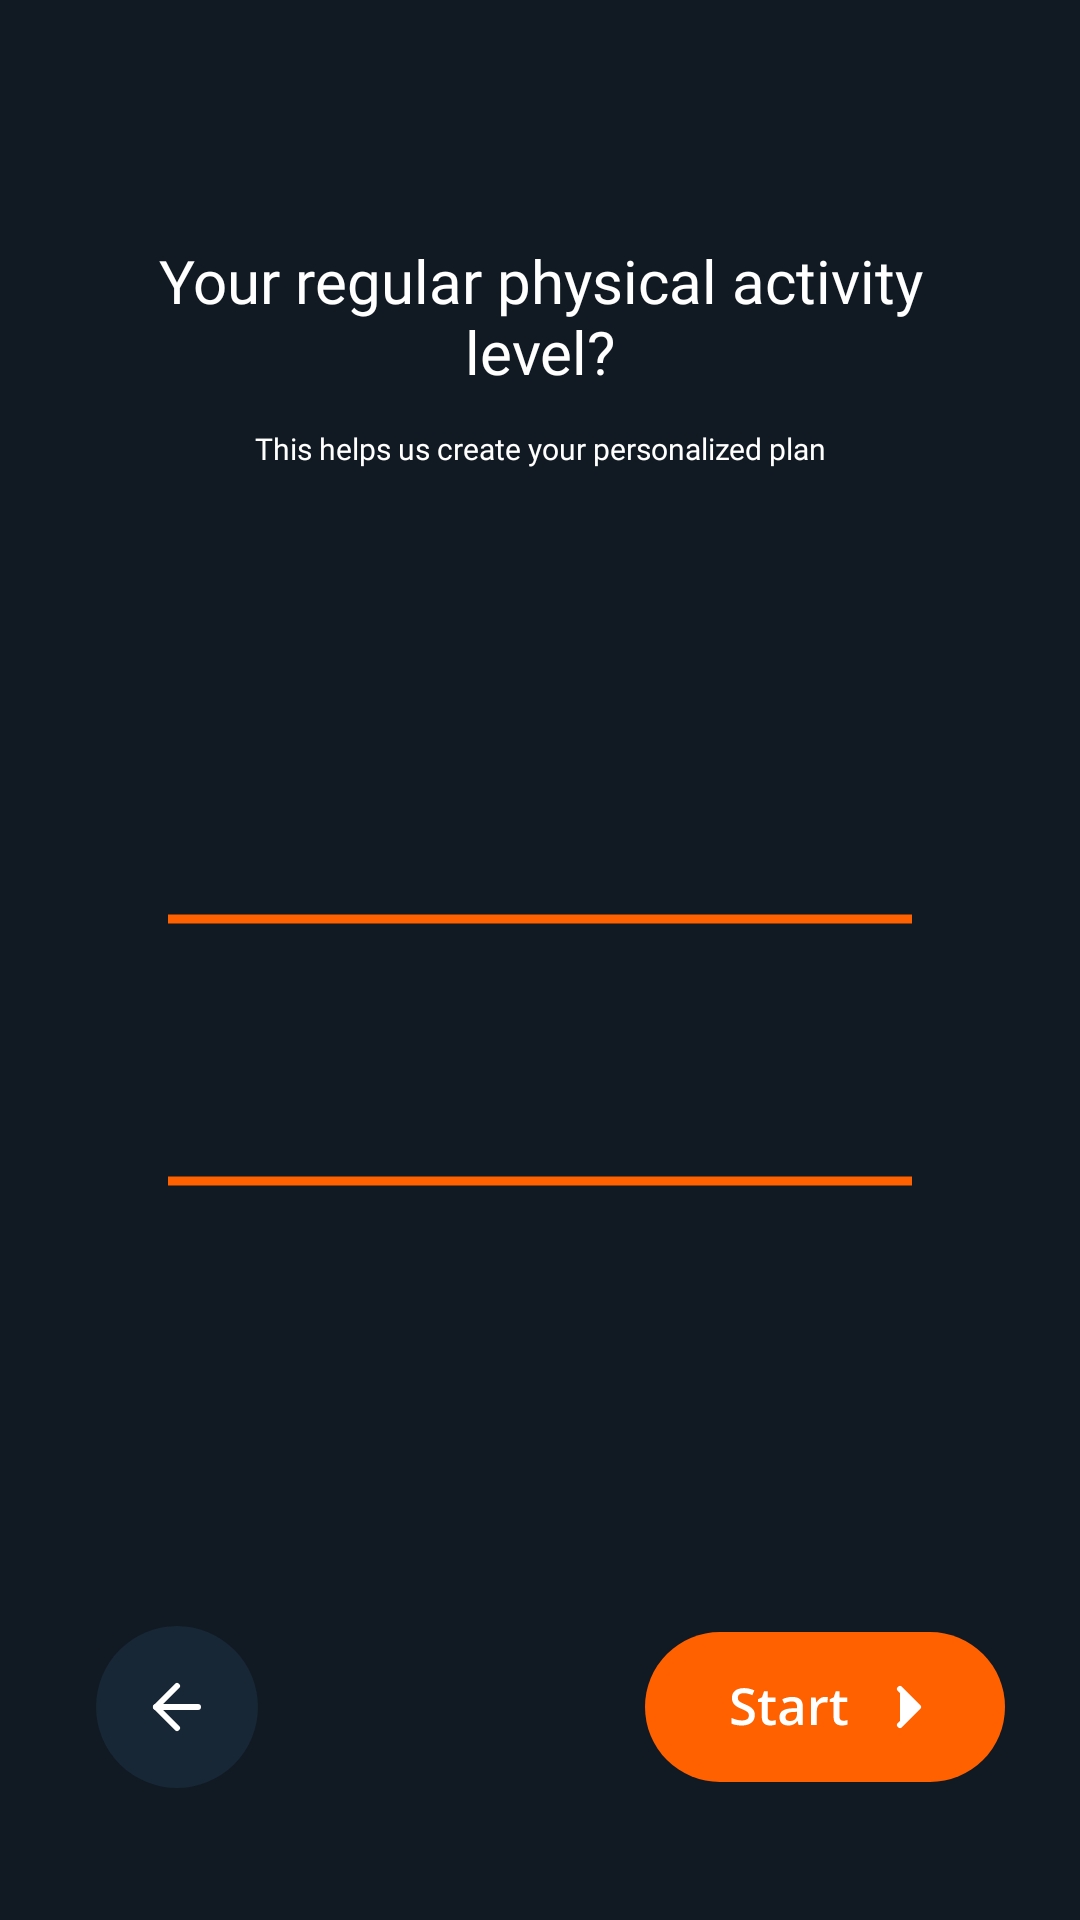

Point at icon controls on the screen. Image size 1080w x 1920h, points as [x,y].
back: [177,1707]
